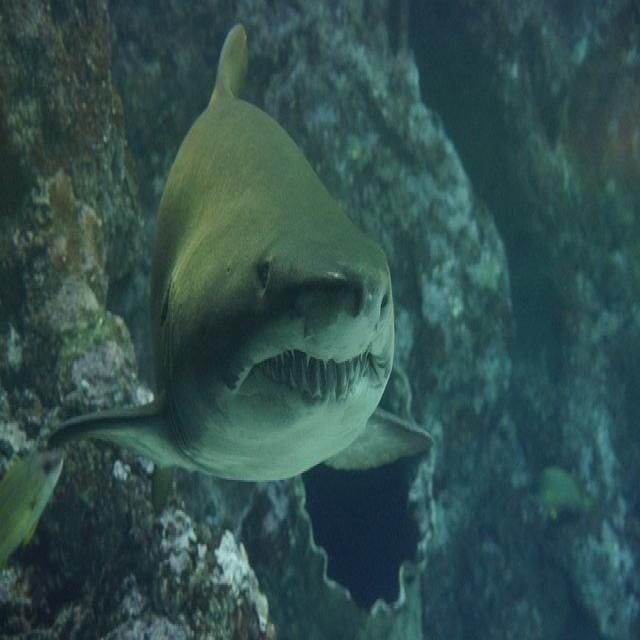Carnivorous: (41, 27, 436, 484)
